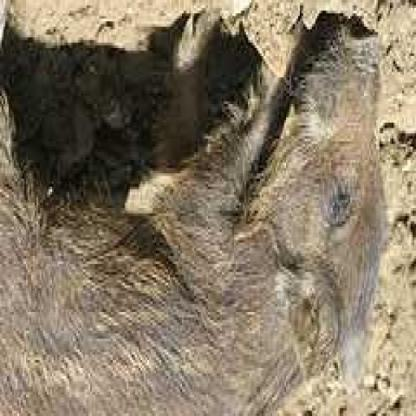boar: (0, 1, 402, 416)
